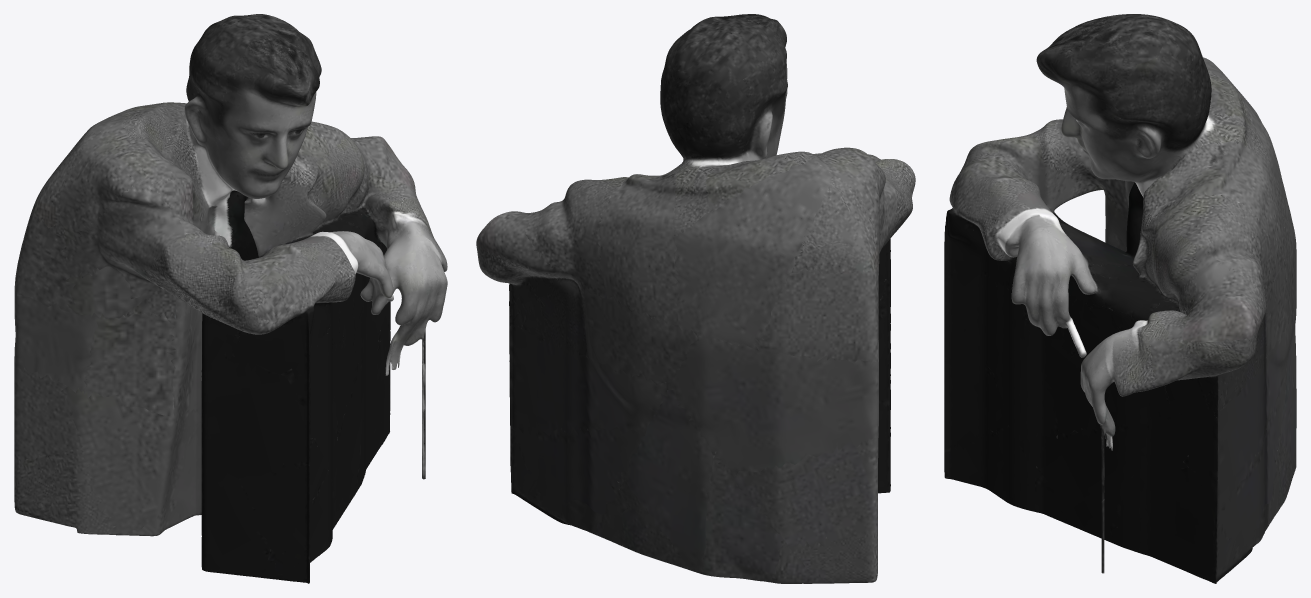
3 views of the same model, side by side, from view 1: azimuth 30°, elevation 25°; view 2: azimuth 150°, elevation 25°; view 3: azimuth 270°, elevation 25° (orthographic).
Bounding box in the file's own units: 1.61 × 1.9 × 1.27.
1 material, 1 textured.
